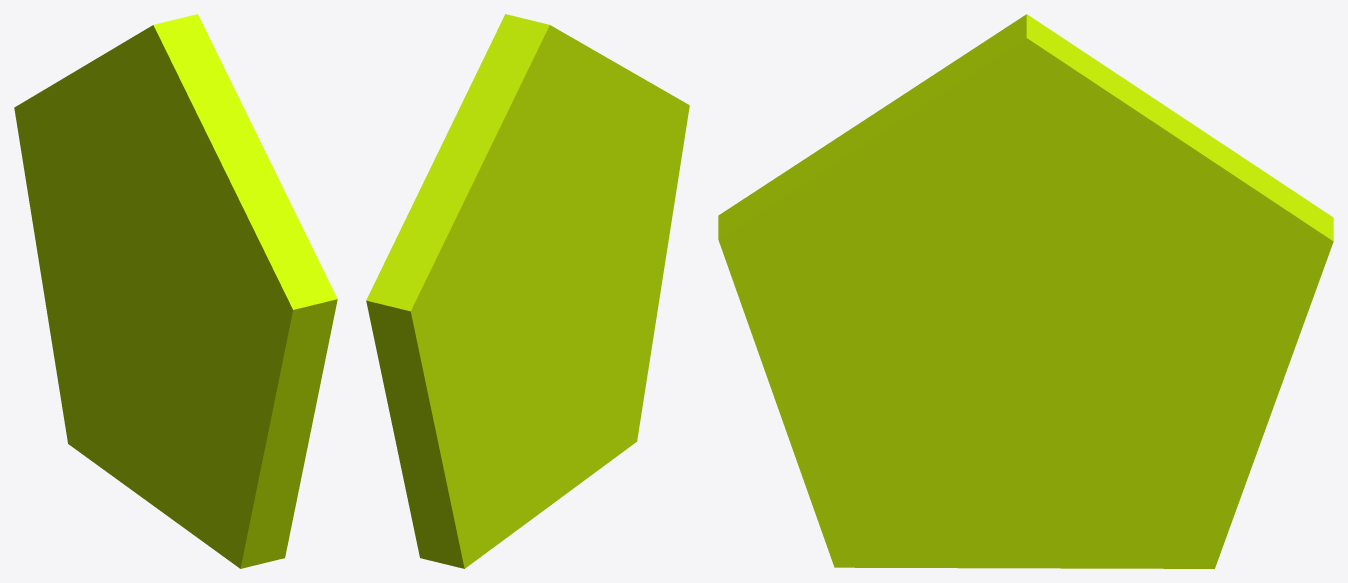
File: Collectable.fbx
The picture shows the model from 3 angles, left to right: view 1: azimuth 30°, elevation 25°; view 2: azimuth 150°, elevation 25°; view 3: azimuth 270°, elevation 25°; orthographic projection. The views are drawn at different scales.
Visible parts, largest first — view 1: Cylinder; view 2: Cylinder; view 3: Cylinder.
Boxes of the visible parts, left/top/right/bottom form: Cylinder: left=14, top=14, right=337, bottom=568; Cylinder: left=366, top=14, right=689, bottom=568; Cylinder: left=718, top=14, right=1333, bottom=568.
Size of the model in its own units: 17.55 by 181 by 190.
